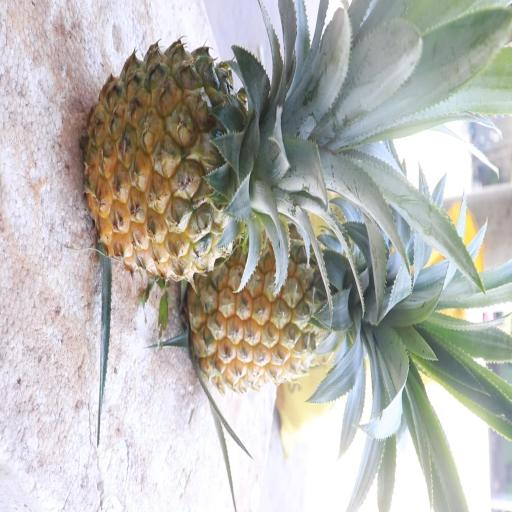Pineapple - v8 v1: (81, 31, 328, 288), (183, 201, 392, 397)
